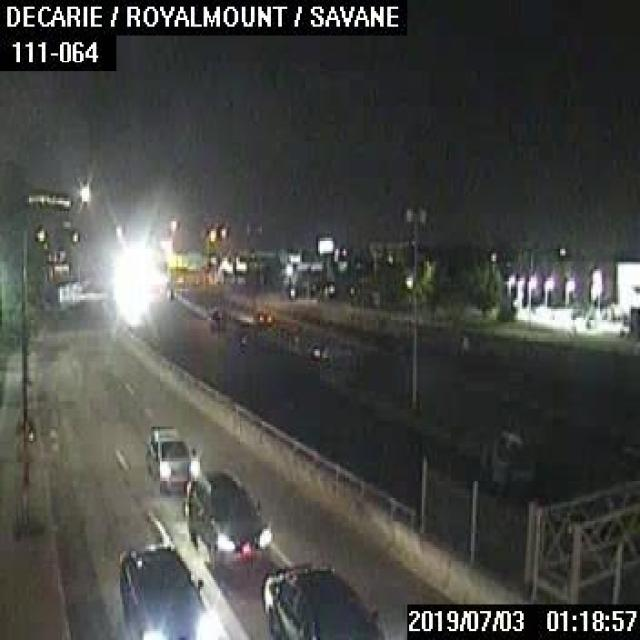vehicle: (115, 540, 216, 638), (258, 562, 387, 638), (182, 468, 271, 576), (146, 422, 201, 492)
